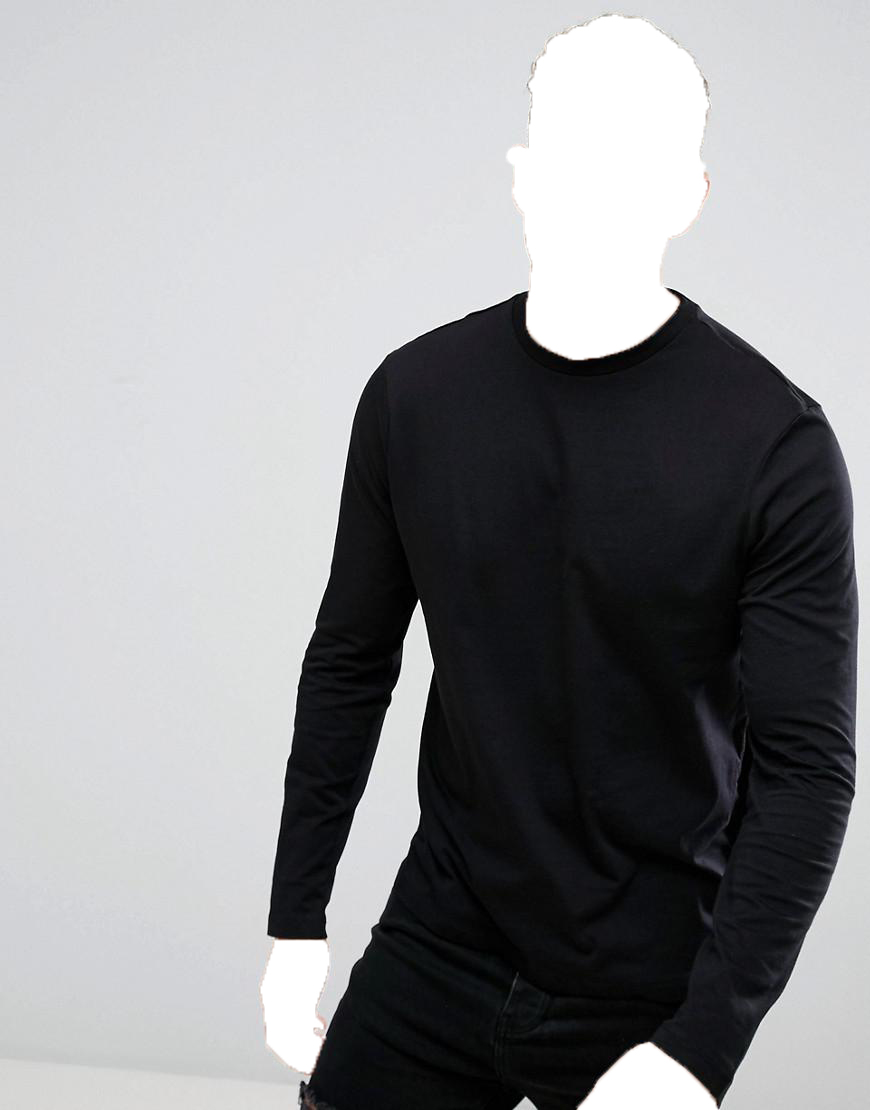teeshirt: (262, 290, 870, 1086)
